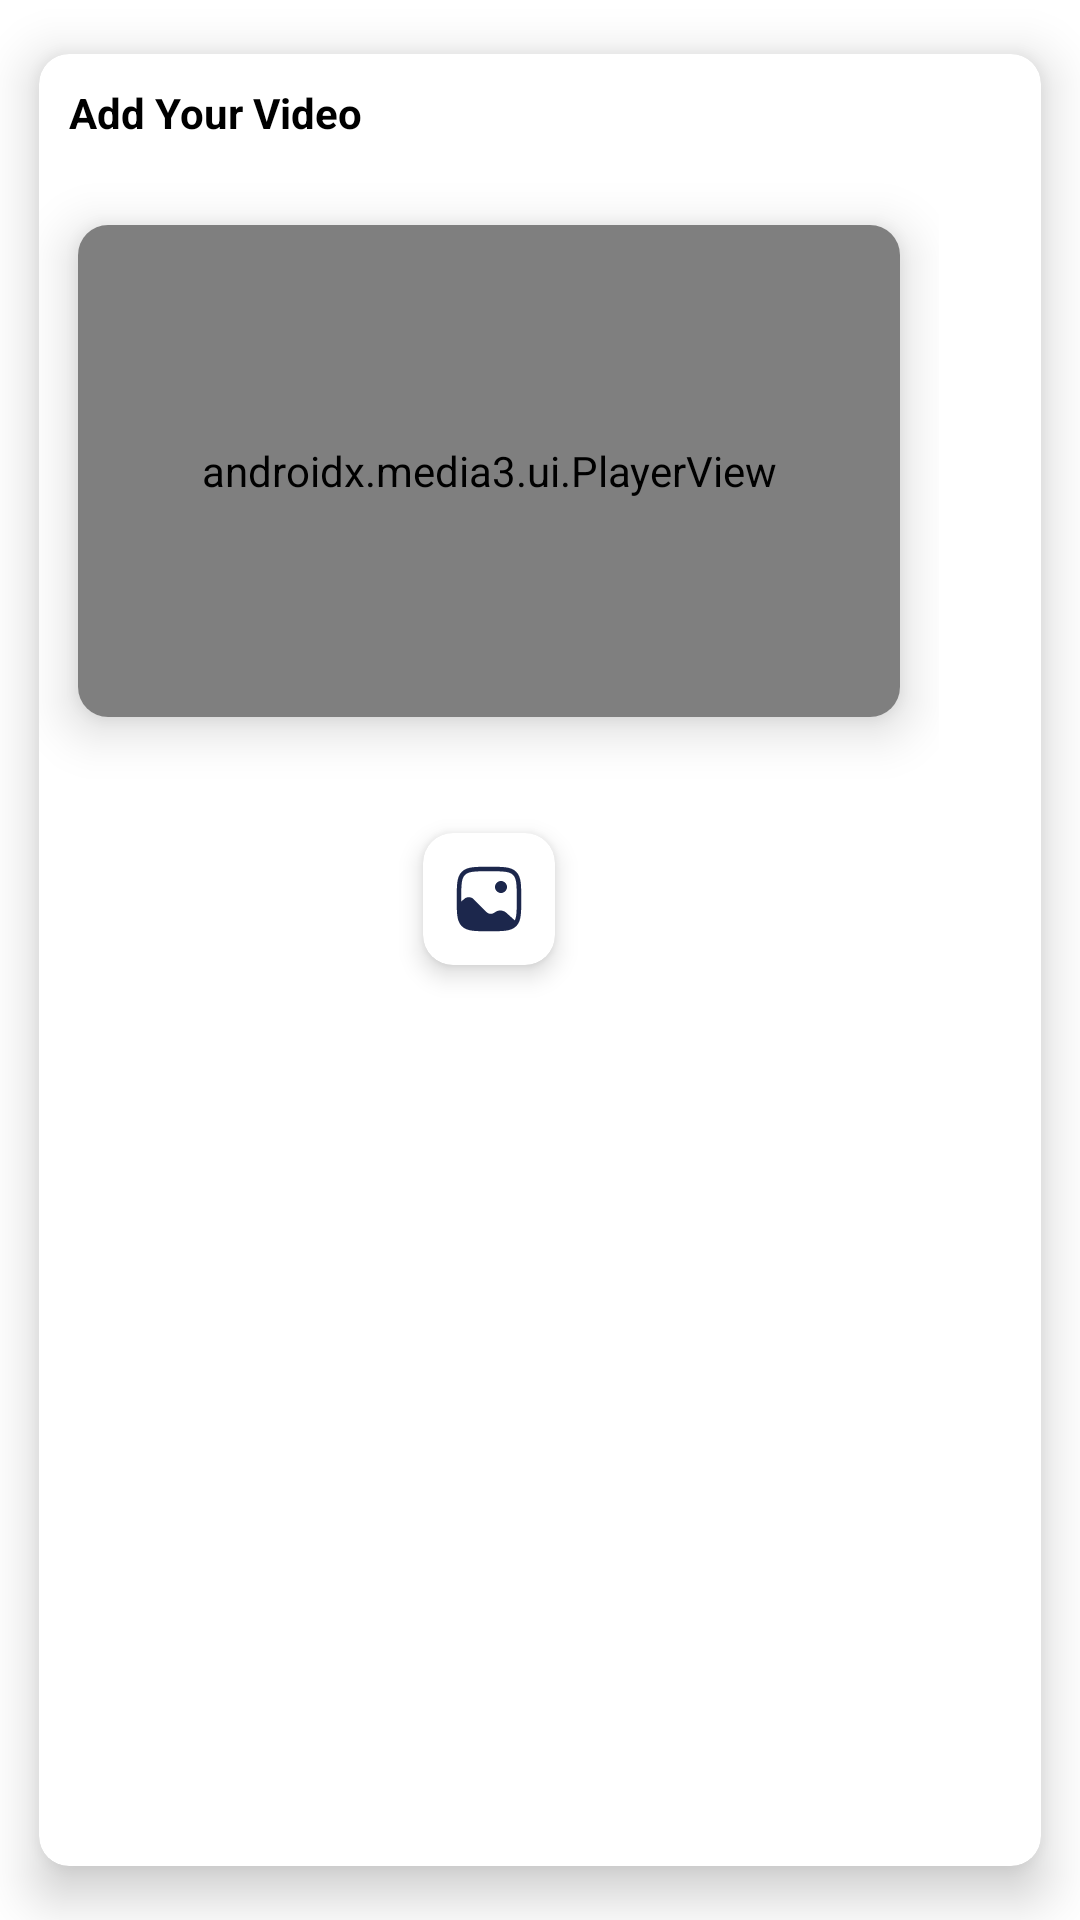

Named icons in this screenshot (1080px×1920px) and their bounding boxes, (x1, y1, x2, y2):
gallery: (456, 866, 522, 932)
